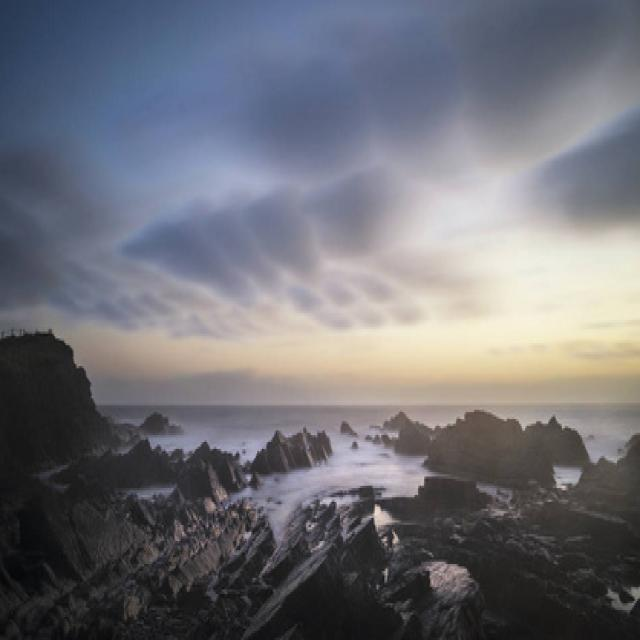reef: (239, 414, 640, 620)
